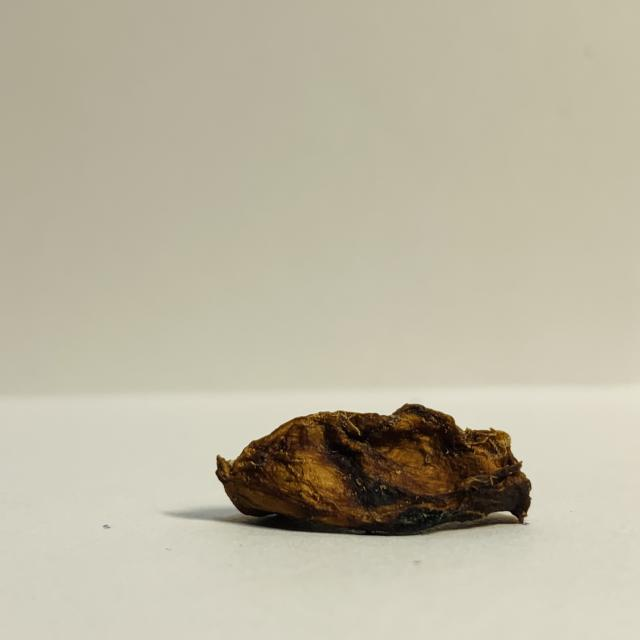Flat_cocoabeans: (139, 384, 592, 557)
